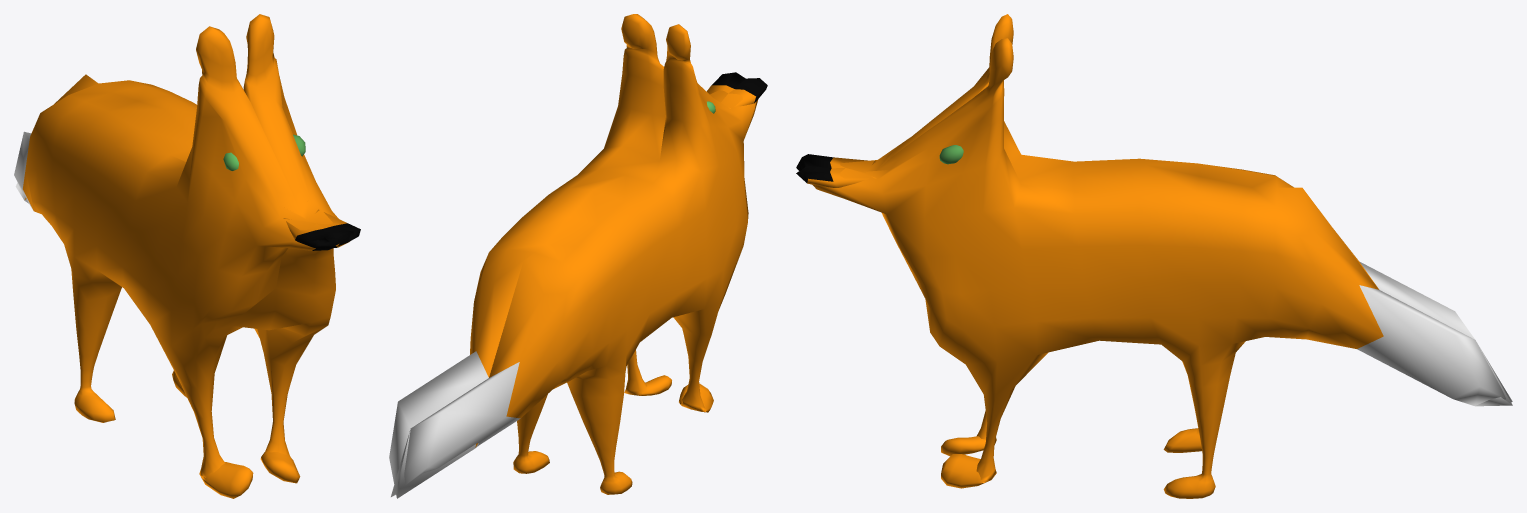
The picture shows the model from 3 angles, left to right: view 1: azimuth 30°, elevation 25°; view 2: azimuth 150°, elevation 25°; view 3: azimuth 270°, elevation 25°; orthographic projection. The views are drawn at different scales.
Visible parts, largest first — view 1: Cube_0; view 2: Cube_0; view 3: Cube_0.
Boxes of the visible parts, x1,y1,x2,y2 form: Cube_0: (14,14,360,498); Cube_0: (389,14,767,498); Cube_0: (796,14,1512,498).
Bounding box in the file's own units: 2.24 × 6.69 × 9.72.
